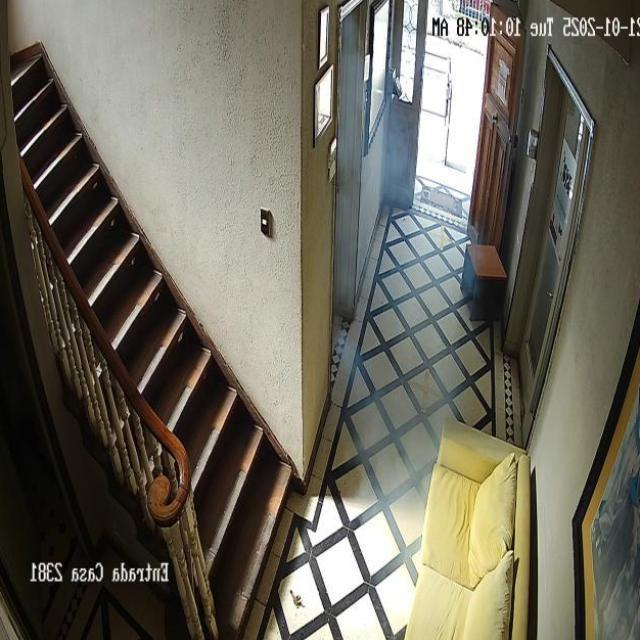fire: (330, 6, 473, 596)
